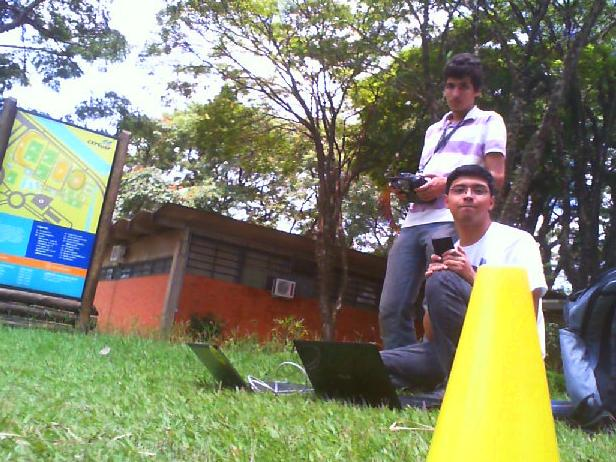0 cone: (423, 265, 562, 462)
